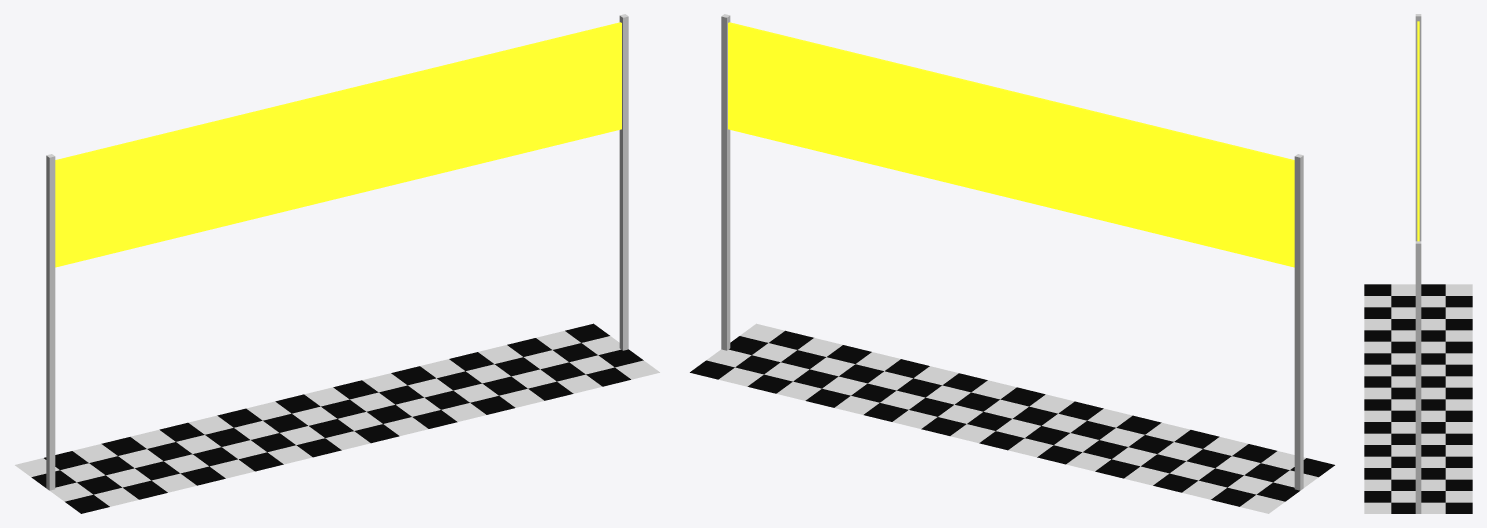
Rendered from finish.fbx.
3 views of the same model, side by side, from view 1: azimuth 30°, elevation 25°; view 2: azimuth 150°, elevation 25°; view 3: azimuth 270°, elevation 25° (orthographic). The views are drawn at different scales.
Visible parts, largest first — view 1: banner, checker.a, checker.b, poles; view 2: banner, checker.b, checker.a, poles; view 3: checker.b, checker.a, poles, banner.
Part boxes in pixels (bbox=[...]): banner: bbox=[55, 22, 621, 267]; checker.a: bbox=[15, 330, 659, 506]; checker.b: bbox=[31, 323, 643, 513]; poles: bbox=[46, 14, 628, 490]; banner: bbox=[728, 22, 1294, 267]; checker.b: bbox=[690, 330, 1334, 506]; checker.a: bbox=[706, 323, 1318, 513]; poles: bbox=[721, 14, 1303, 490]; checker.b: bbox=[1364, 284, 1472, 513]; checker.a: bbox=[1364, 284, 1472, 513]; poles: bbox=[1415, 14, 1421, 513]; banner: bbox=[1417, 21, 1419, 241].
Bounding box in the file's own units: 20 × 10.98 × 4.
